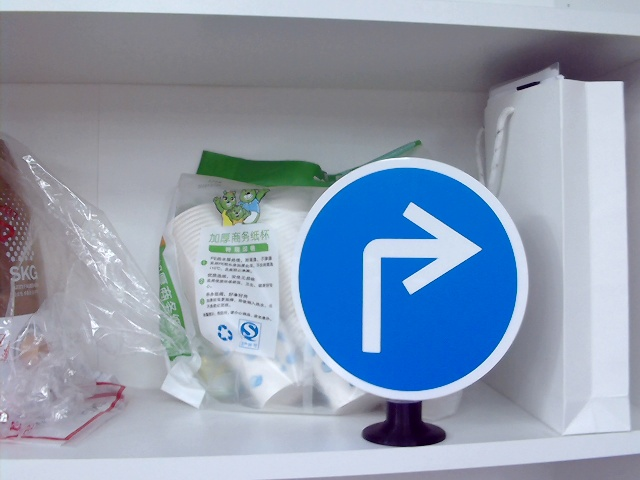turn_right: (343, 201, 484, 352)
